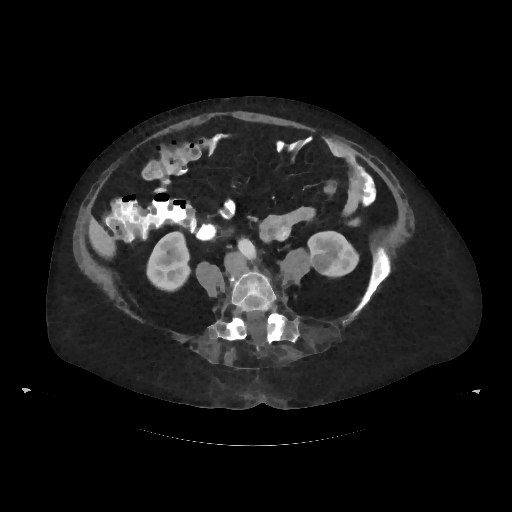Lesion: (308, 250, 337, 275)
